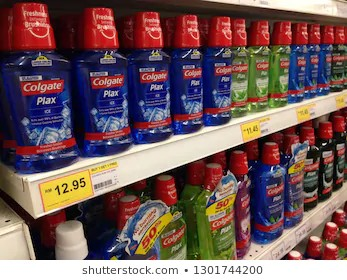colgate-Plax: (10, 1, 77, 178), (74, 4, 134, 153), (129, 11, 173, 141), (198, 174, 240, 263), (173, 13, 204, 133), (254, 142, 286, 243), (207, 20, 233, 125), (282, 146, 306, 232), (229, 21, 250, 117), (269, 23, 291, 106), (248, 23, 268, 110), (289, 21, 307, 103), (306, 24, 320, 97), (321, 25, 330, 96)
